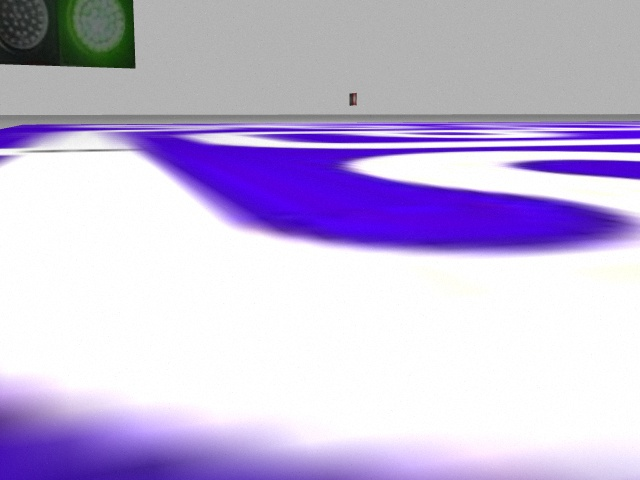green: (56, 1, 137, 66)
